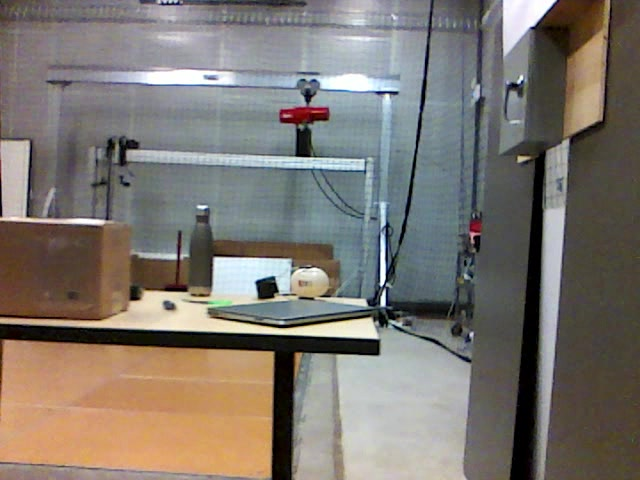box: (1, 218, 131, 321)
